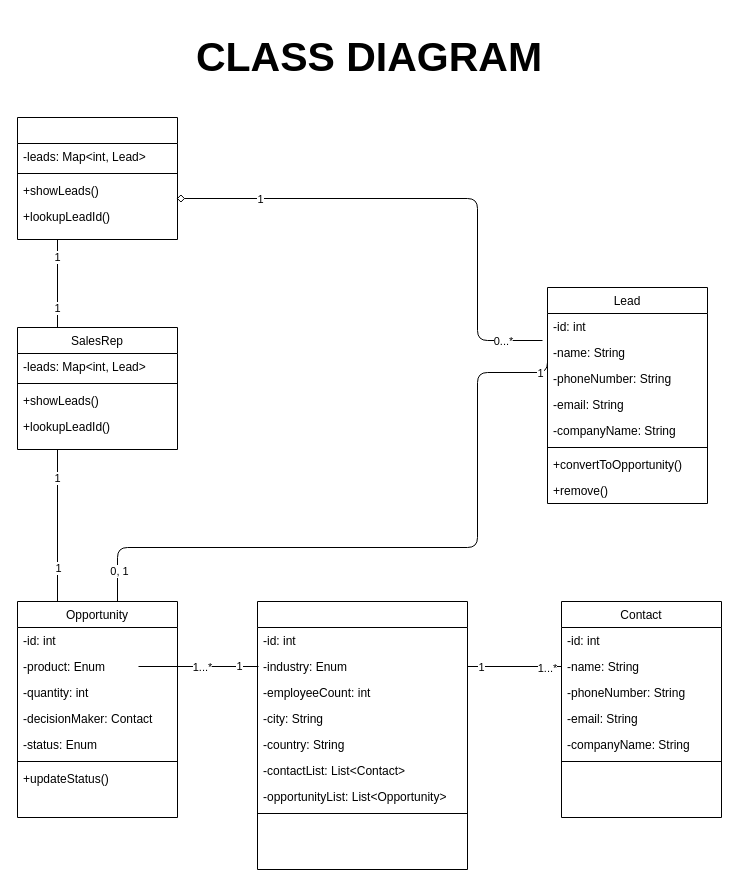
Some shapes in this 739 by 887 pixel diagram are drawn without their labels. Each missing label, with the box of its shape:
Account: (256, 600, 468, 870)
LeadList: (16, 116, 178, 240)
